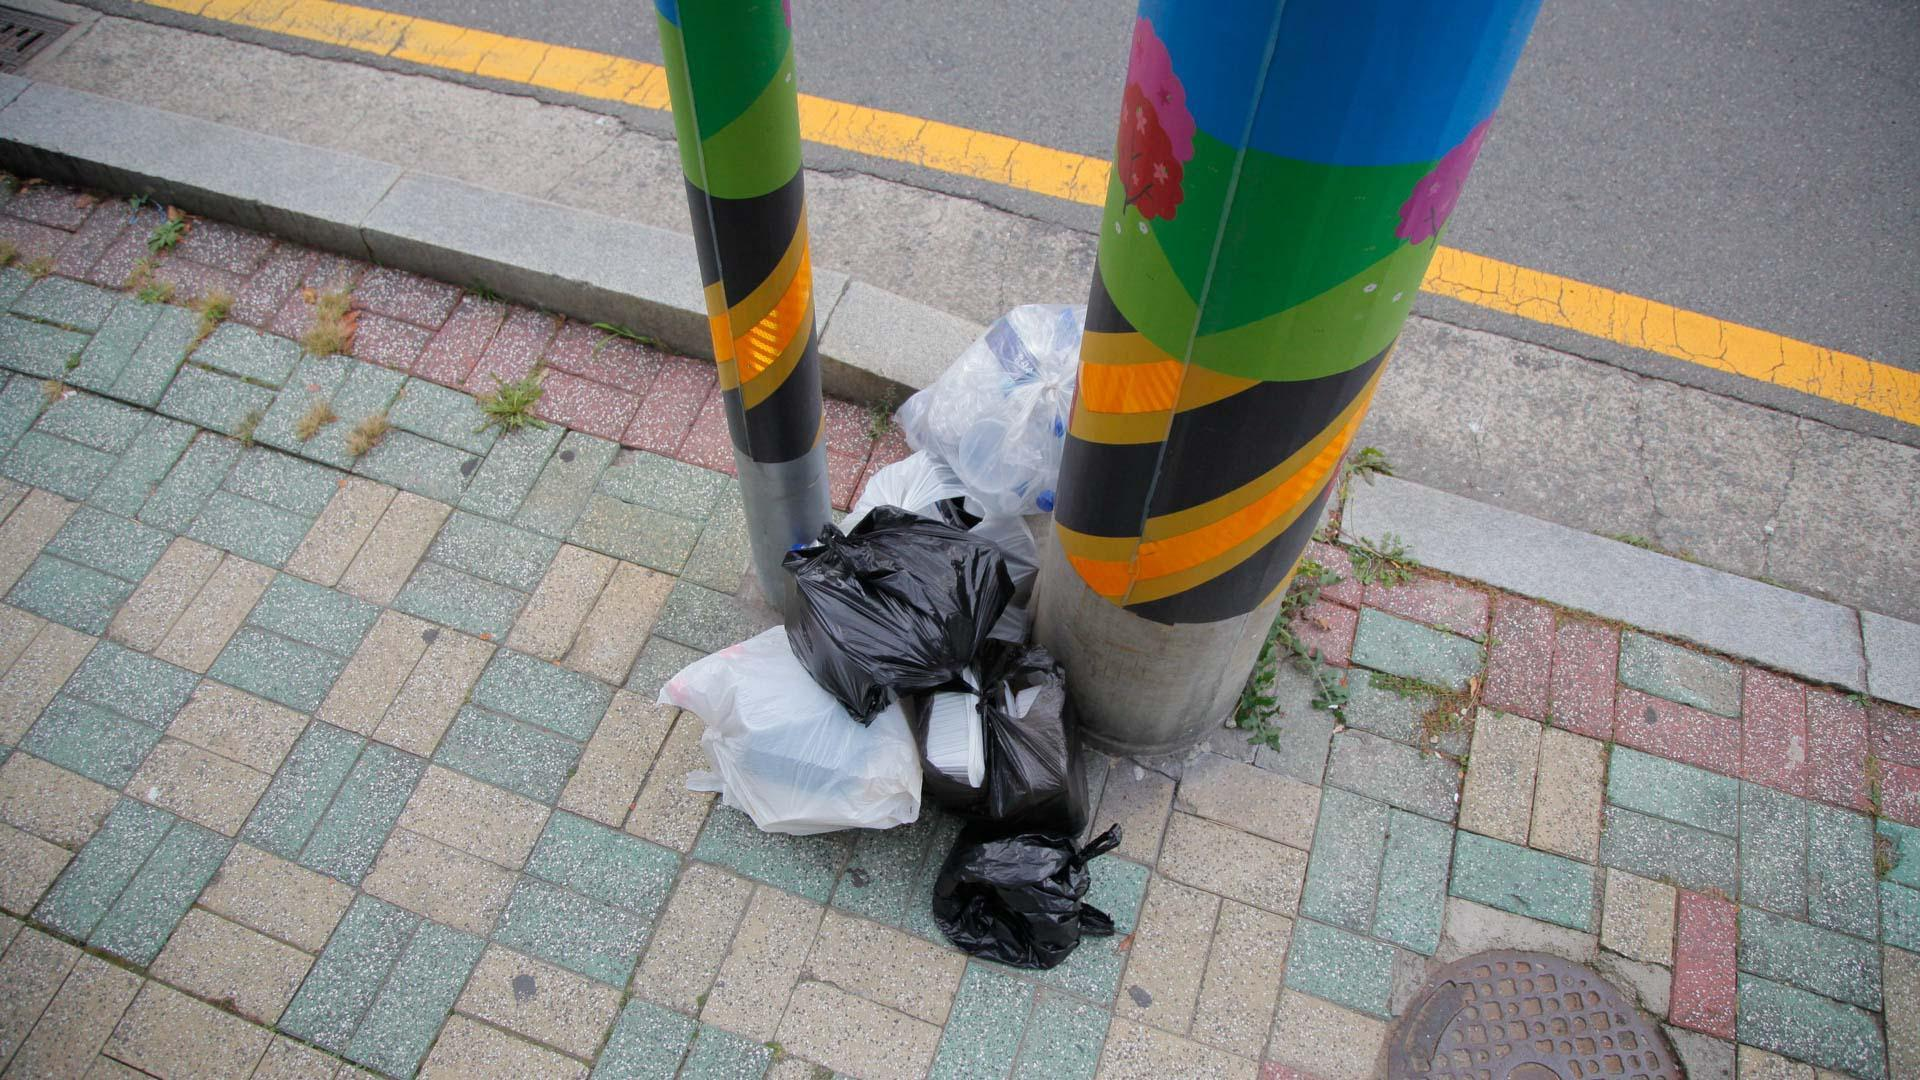black_bag: (775, 493, 1022, 709), (936, 822, 1127, 978), (965, 646, 1085, 837)
white_bag: (642, 618, 932, 855), (885, 280, 1118, 567)
